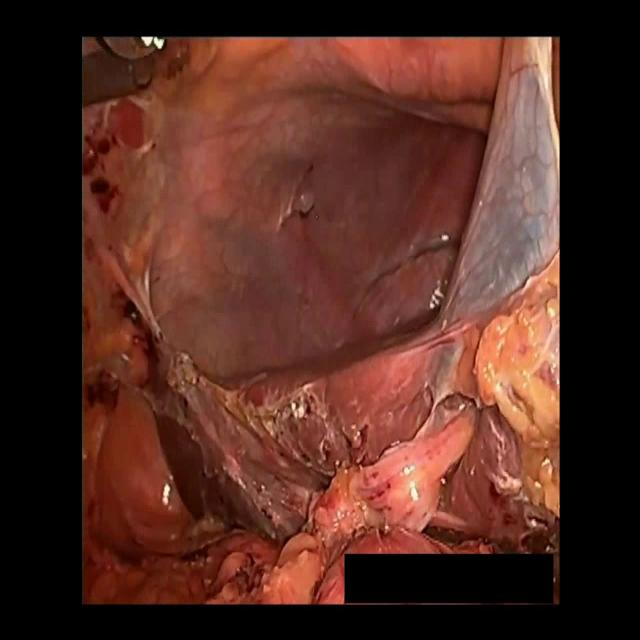surgical-area: (81, 36, 561, 604)
